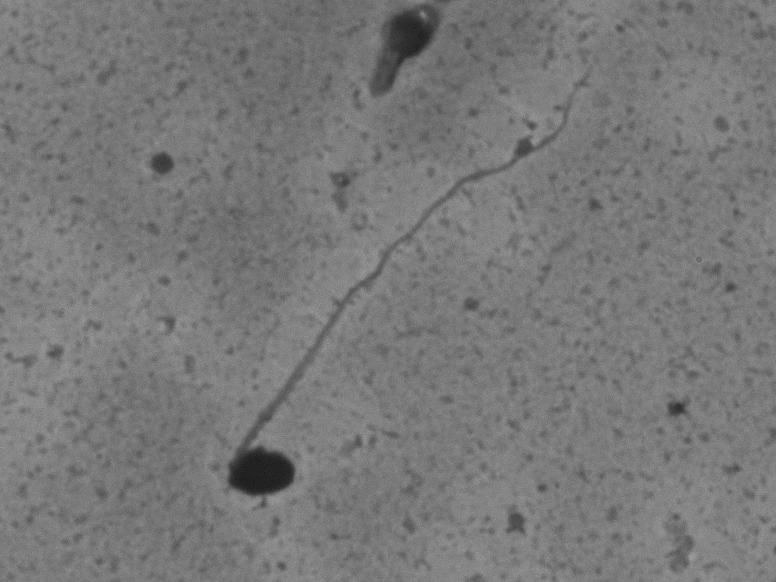Abnormal: (189, 66, 624, 510)
